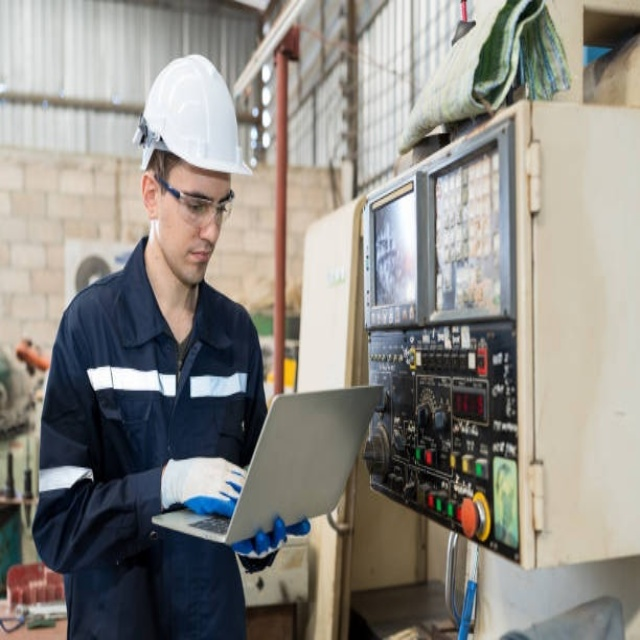Gafas: (155, 172, 236, 228)
Guantes: (160, 455, 246, 516), (233, 515, 311, 561)
Sin_mascara: (178, 243, 214, 282)
